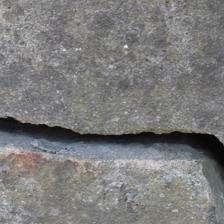Crack: (4, 111, 221, 171)
